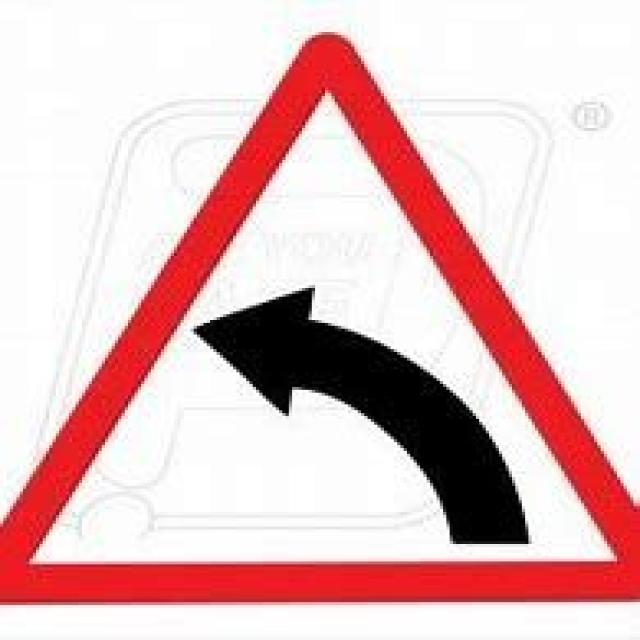left hand curve: (11, 34, 631, 602)
